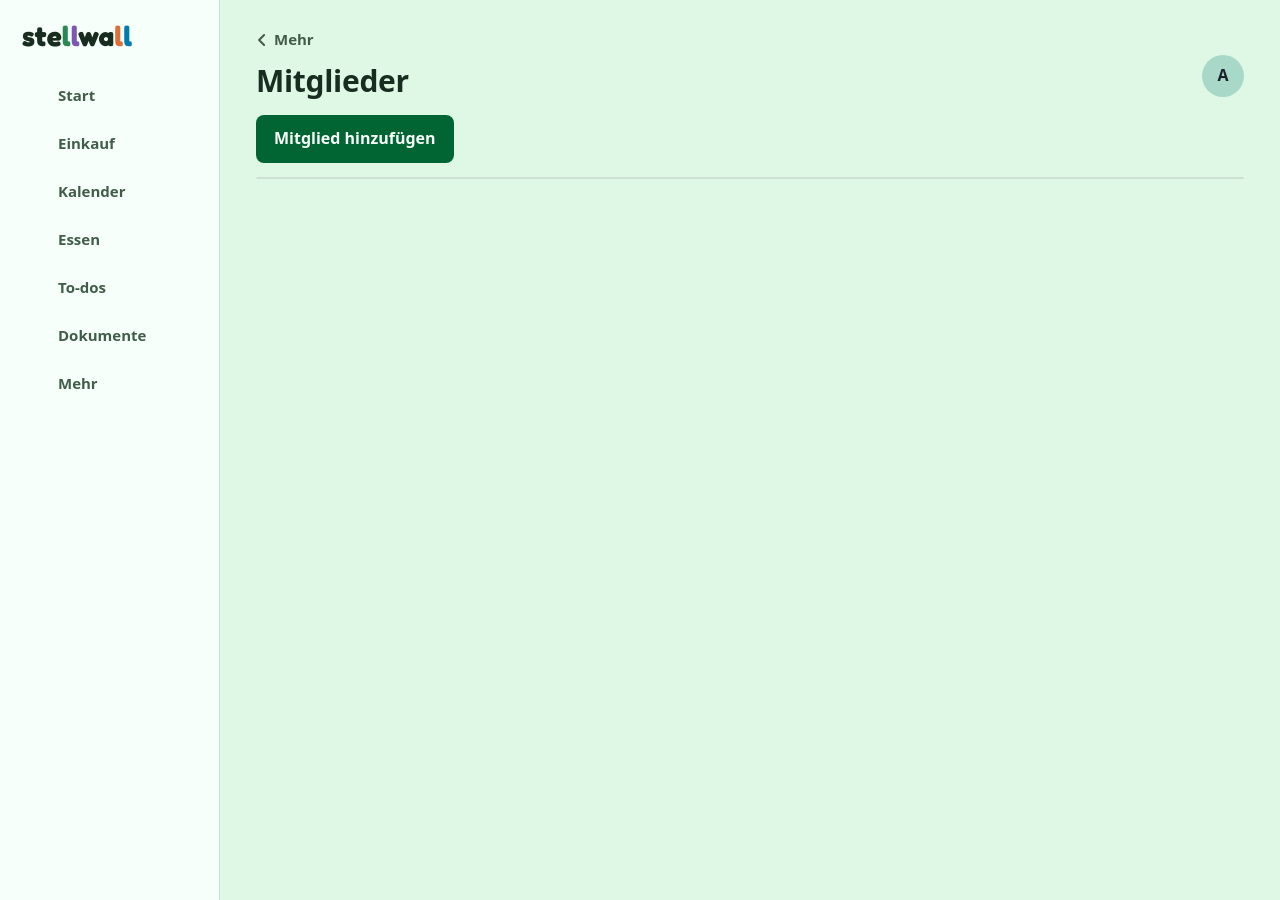
Scenario: members › shows the taken message when the username exists
Click the button "Mitglied hinzufügen".
click(355, 139)  # box [256,115,454,163]
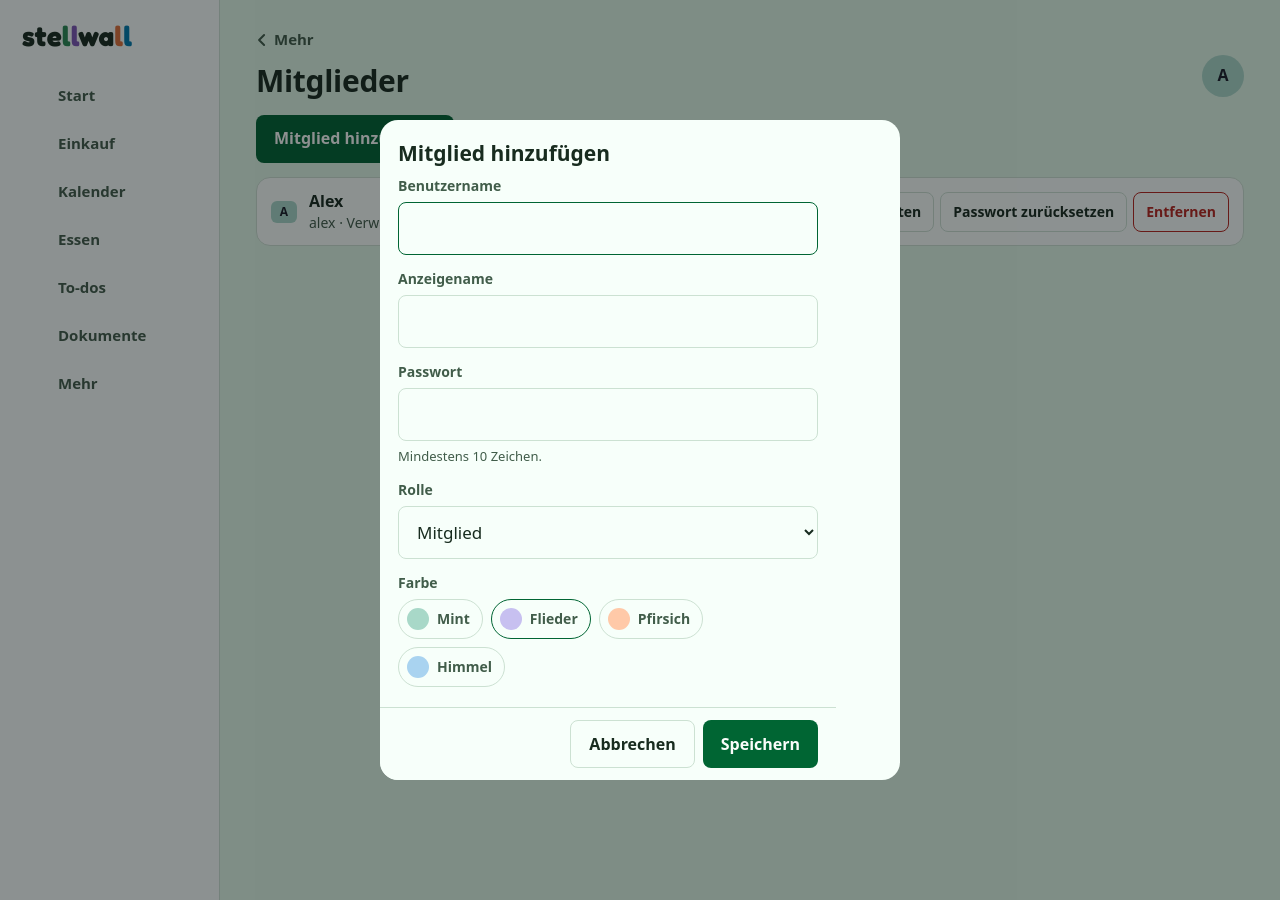
Type "sam" into the field labelled "Benutzername".
click(608, 229); type("sam")  # box [398,202,818,255]
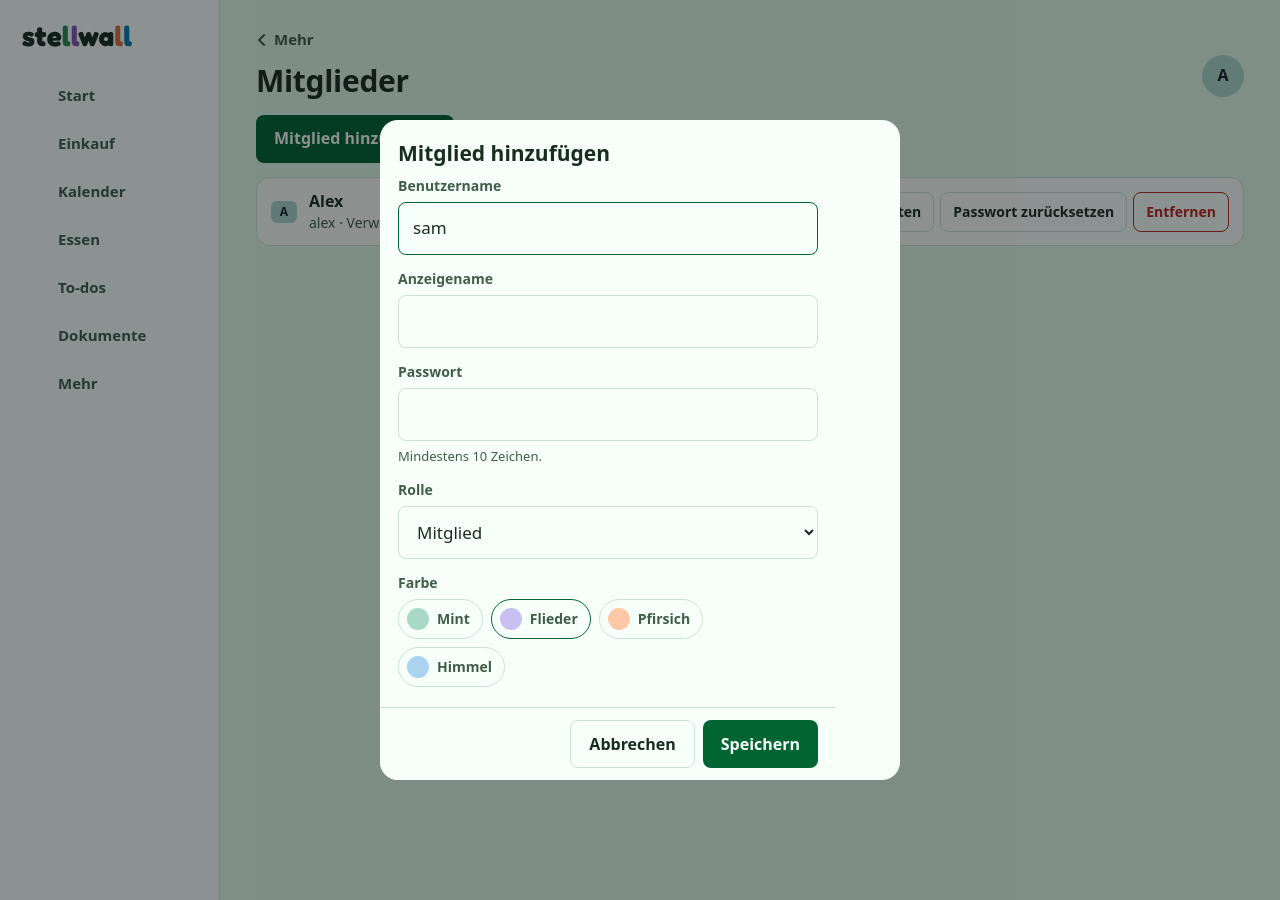
Type "Sam" into the field labelled "Anzeigename".
click(608, 322); type("Sam")  # box [398,295,818,348]
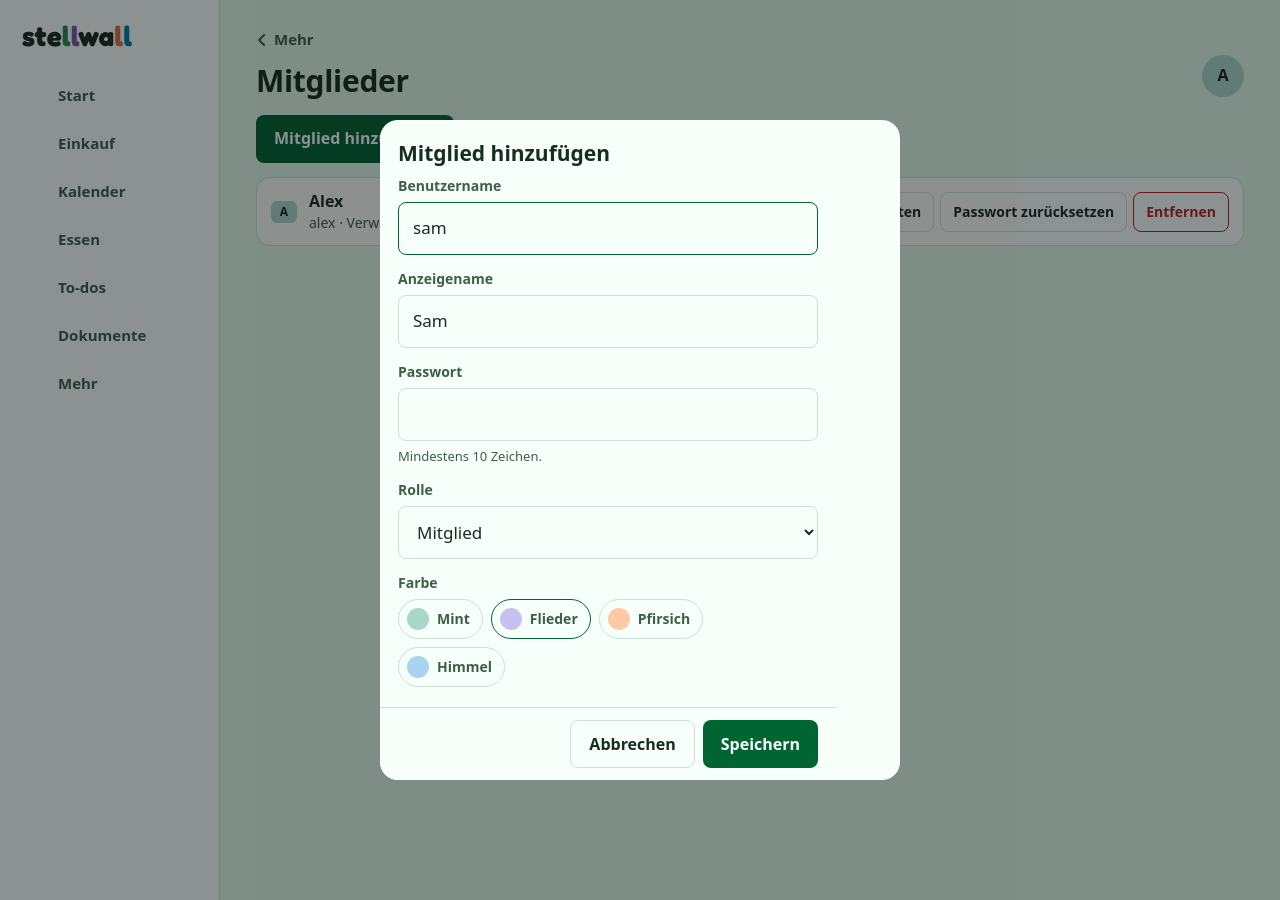
Type "member-pass-1" into the password field labelled "Passwort".
click(608, 415); type("member-pass-1")  # box [398,388,818,441]
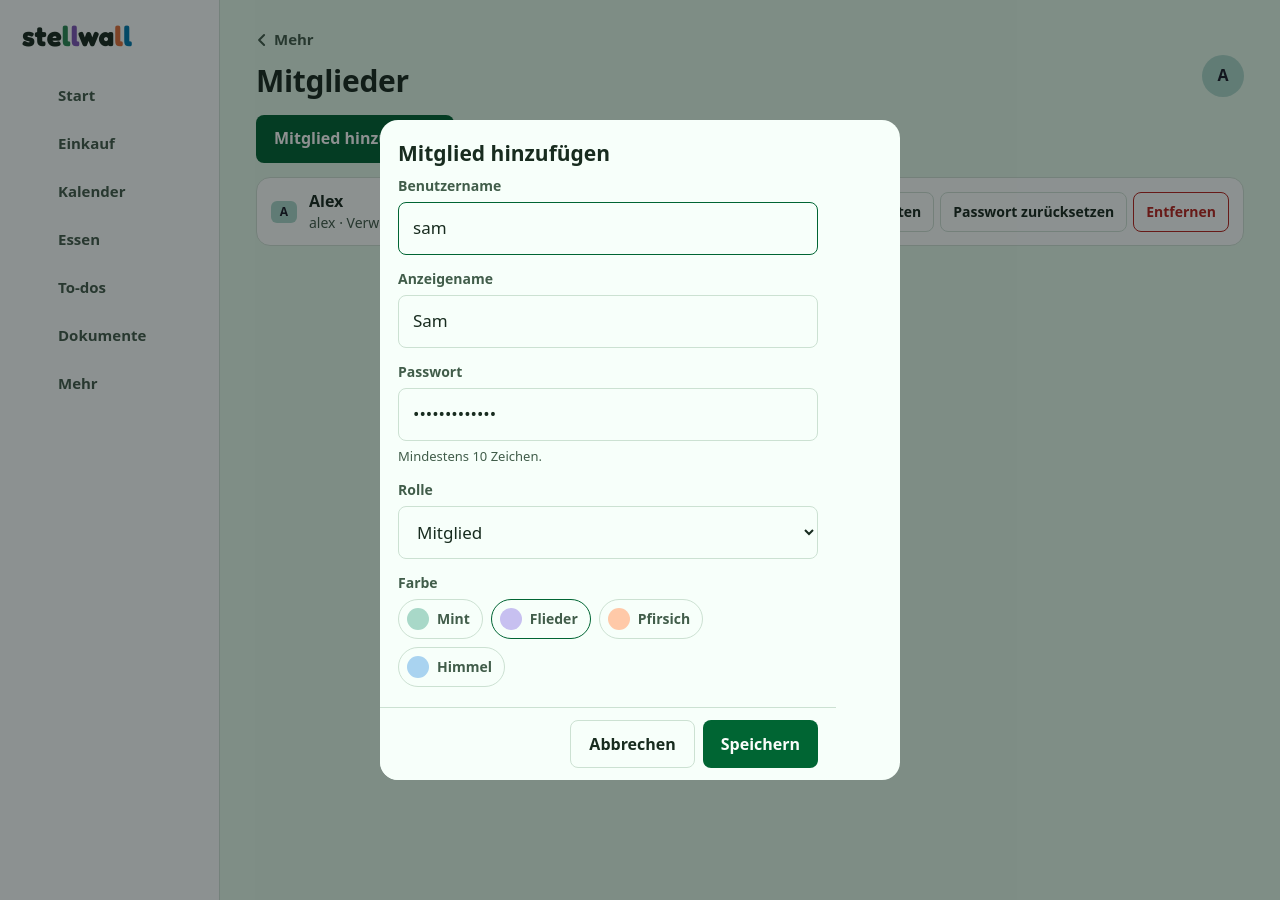
Click the button "Speichern".
click(760, 744)  # box [703,720,818,768]
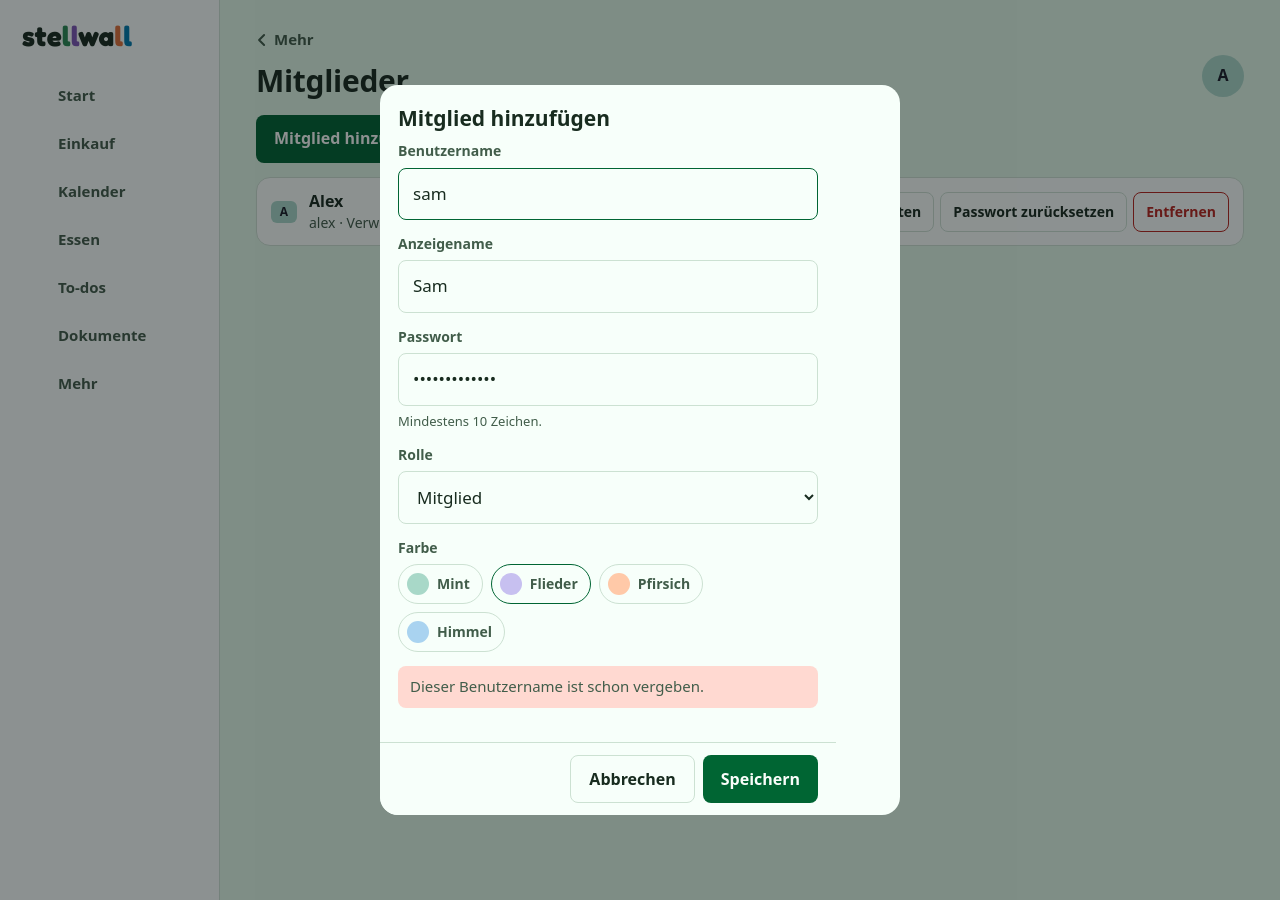
Now the text "Dieser Benutzername ist schon vergeben." is shown, box [398,666,818,708]
